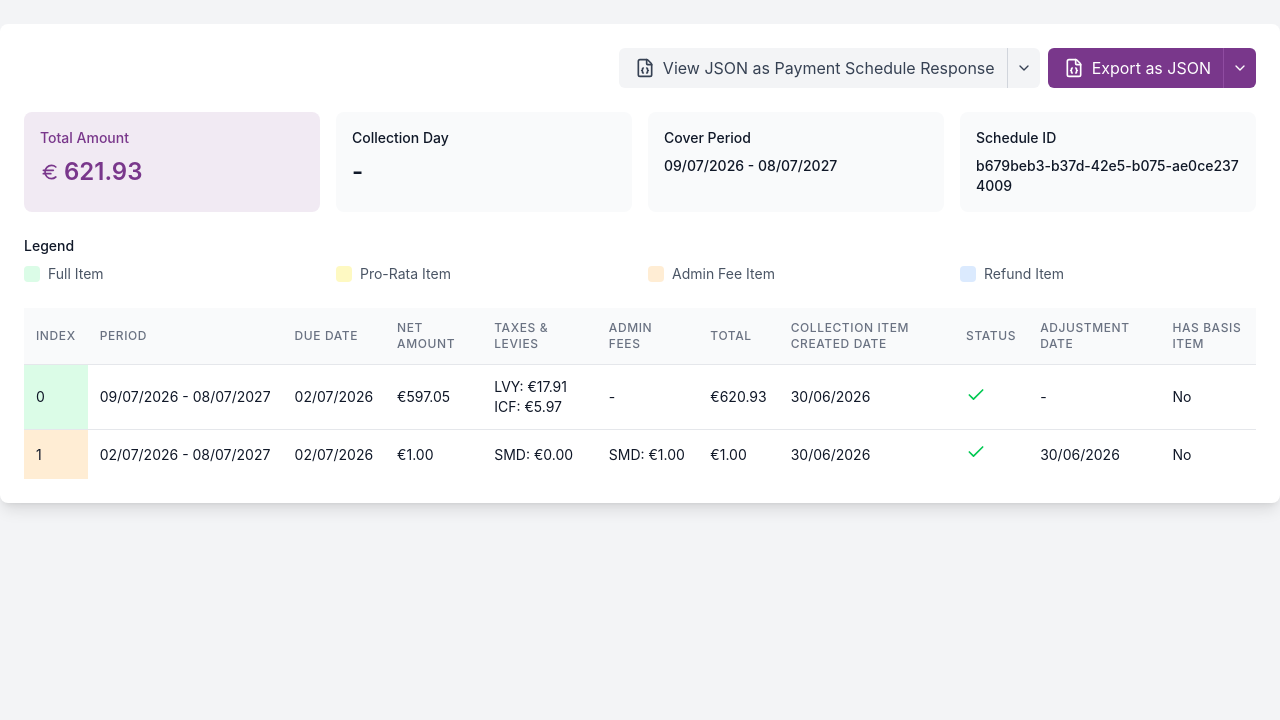
Test: ScheduleDisplay › opens a dropdown menu listing all 4 JSON view formats
Step 1. Click the button named "Choose JSON view format" → point(1023, 68), box [1007, 48, 1040, 88]
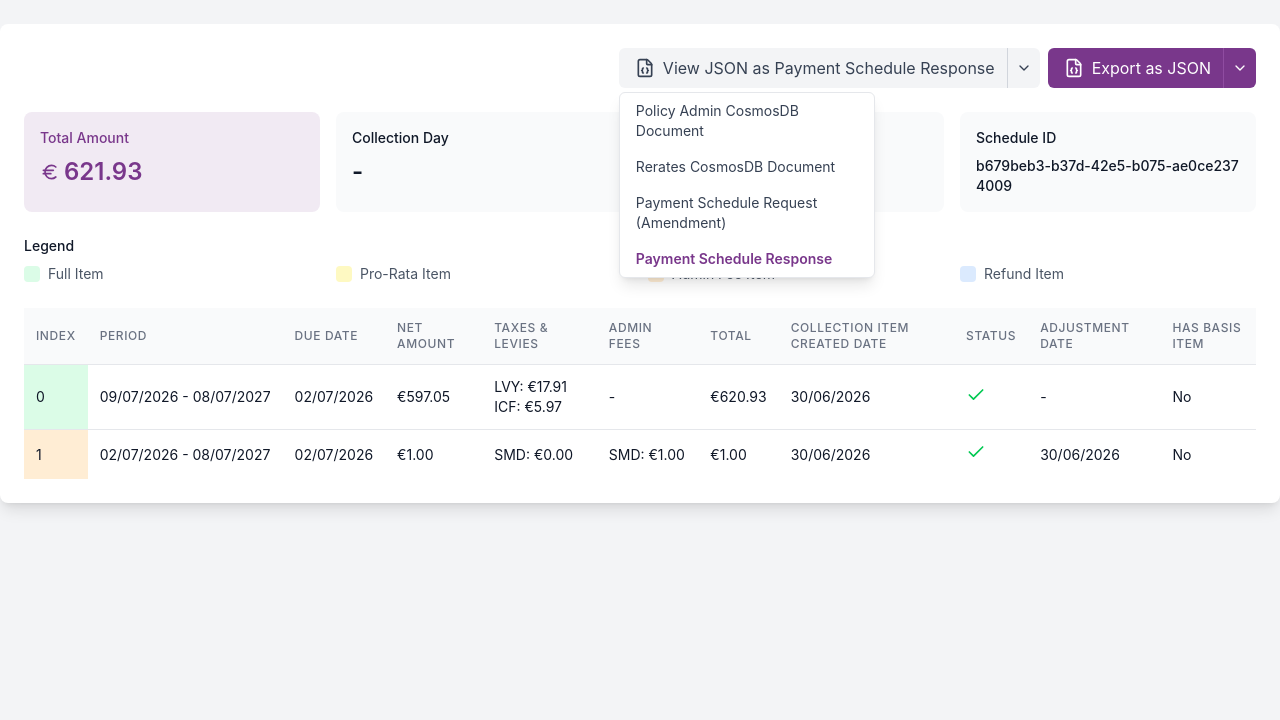
Now the menu item "Policy Admin CosmosDB Document" is shown, box [620, 93, 874, 149]
Now the menu item "Rerates CosmosDB Document" is shown, box [620, 149, 874, 185]
Now the menu item "Payment Schedule Request (Amendment)" is shown, box [620, 185, 874, 241]
